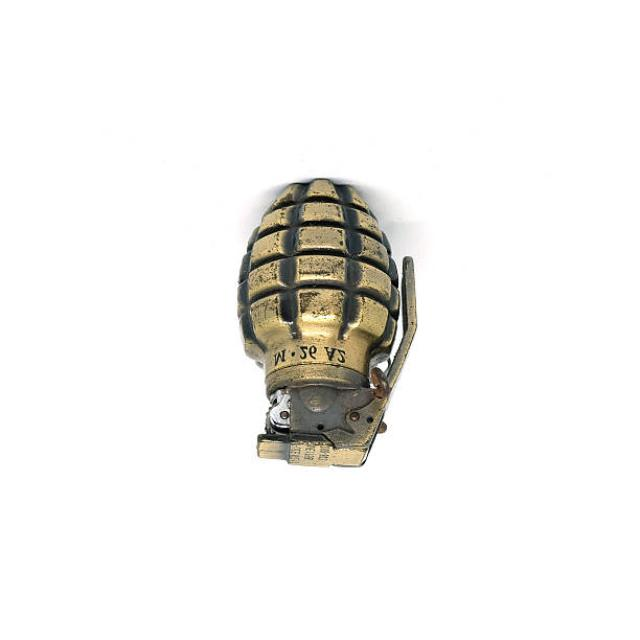grenade: (241, 171, 424, 475)
